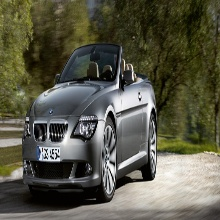no damage: (21, 43, 159, 202)
